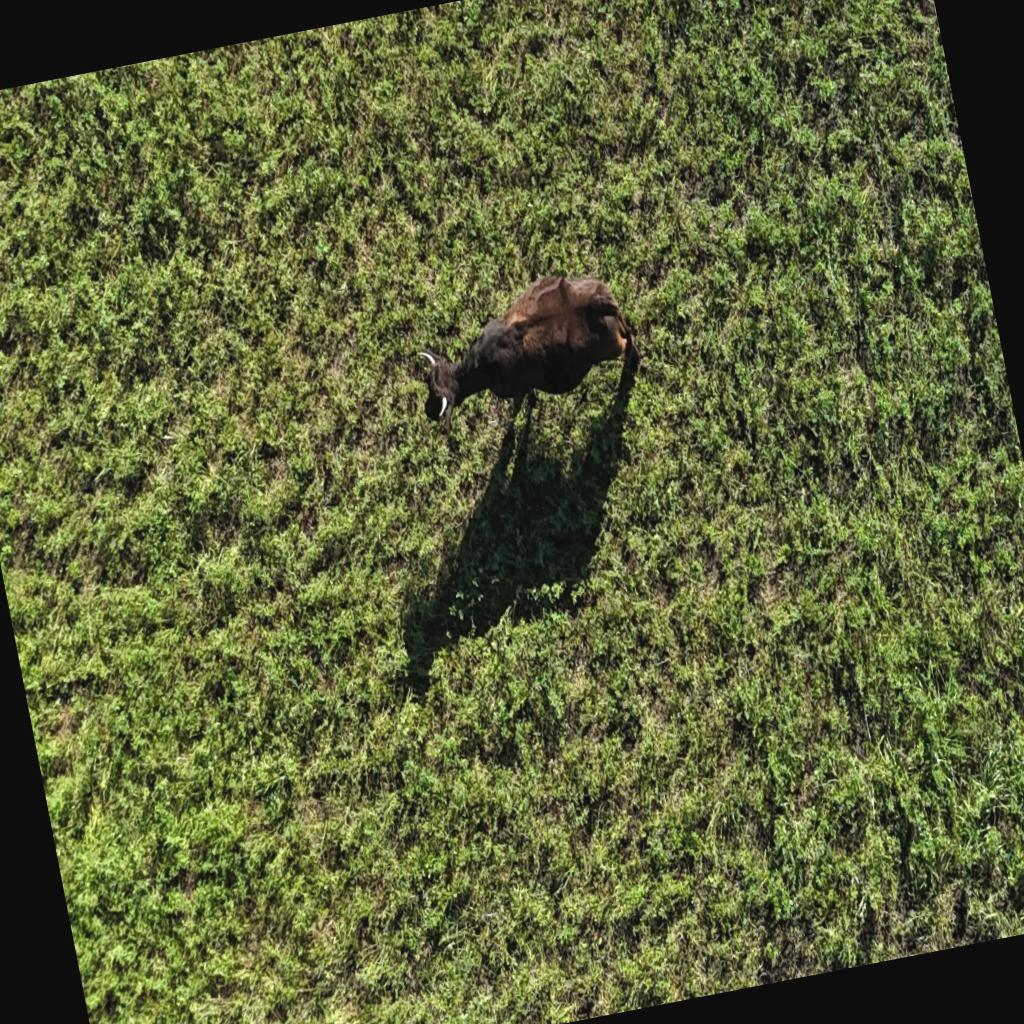cow: (374, 225, 668, 474)
